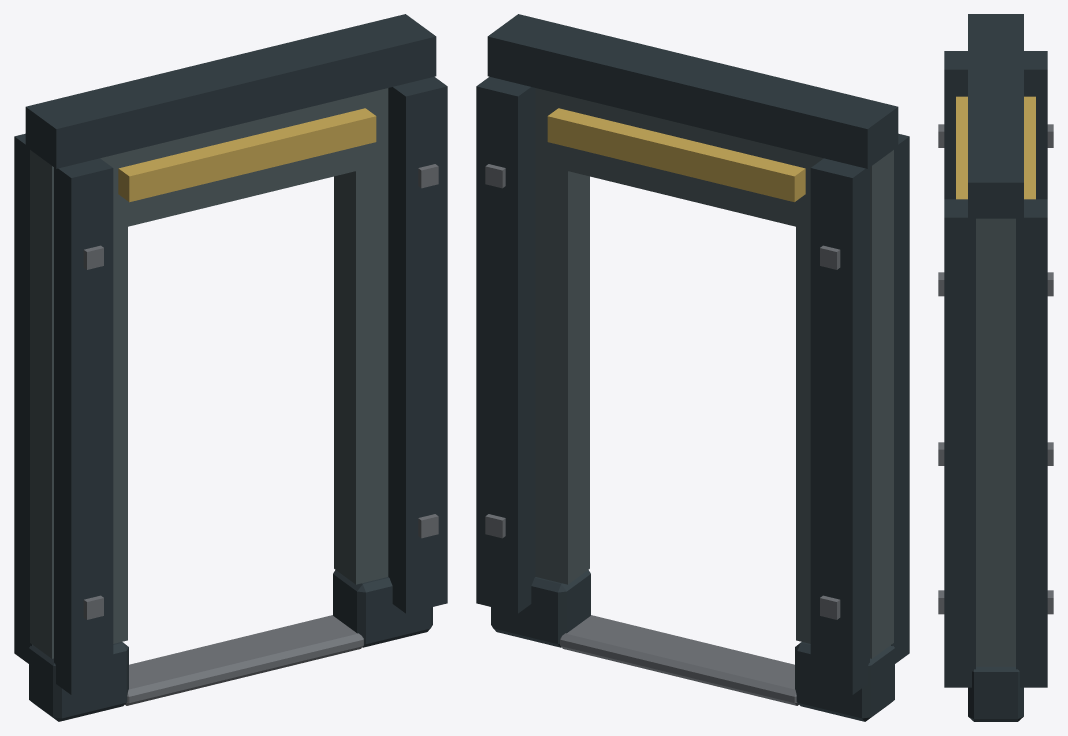
The model's file is installation-battery-wall-door.glb.
3 renders of one model, left to right at view 1: azimuth 30°, elevation 25°; view 2: azimuth 150°, elevation 25°; view 3: azimuth 270°, elevation 25°, orthographic. The views are drawn at different scales.
Visible parts, largest first — view 1: steel_rib, steel_rib.002, cornice, jamb_r, jamb_l, warning_header, threshold, lintel, steel_rib.001, plinth_r, plinth_l; view 2: steel_rib.001, steel_rib.003, cornice, jamb_r, jamb_l, warning_header.001, threshold, lintel, steel_rib, plinth_r, plinth_l; view 3: jamb_r, steel_rib.002, steel_rib.003, cornice, plinth_r, steel_rib, steel_rib.001, warning_header, warning_header.001.
Part boxes in pixels (left/top/right/bottom): steel_rib: left=54, top=158, right=113, bottom=694; steel_rib.002: left=388, top=76, right=447, bottom=613; cornice: left=25, top=14, right=436, bottom=168; jamb_r: left=334, top=88, right=388, bottom=584; jamb_l: left=30, top=150, right=127, bottom=658; warning_header: left=118, top=108, right=376, bottom=202; threshold: left=125, top=615, right=363, bottom=705; lintel: left=128, top=96, right=355, bottom=226; steel_rib.001: left=14, top=133, right=32, bottom=663; plinth_r: left=333, top=570, right=432, bottom=647; plinth_l: left=29, top=642, right=128, bottom=721; steel_rib.001: left=810, top=158, right=869, bottom=694; steel_rib.003: left=476, top=76, right=535, bottom=613; cornice: left=487, top=14, right=898, bottom=168; jamb_r: left=535, top=88, right=589, bottom=584; jamb_l: left=796, top=150, right=893, bottom=658; warning_header.001: left=547, top=108, right=805, bottom=202; threshold: left=560, top=615, right=798, bottom=705; lintel: left=568, top=96, right=795, bottom=226; steel_rib: left=891, top=133, right=909, bottom=663; plinth_r: left=491, top=570, right=590, bottom=647; plinth_l: left=795, top=642, right=894, bottom=721; jamb_r: left=976, top=218, right=1015, bottom=666; steel_rib.002: left=944, top=199, right=975, bottom=687; steel_rib.003: left=1016, top=199, right=1047, bottom=687; cornice: left=968, top=14, right=1023, bottom=218; plinth_r: left=968, top=666, right=1023, bottom=721; steel_rib: left=944, top=51, right=967, bottom=199; steel_rib.001: left=1024, top=51, right=1047, bottom=199; warning_header: left=956, top=96, right=967, bottom=199; warning_header.001: left=1024, top=96, right=1035, bottom=199.
Bounding box in the file's own units: 1 × 1.5 × 0.29.
